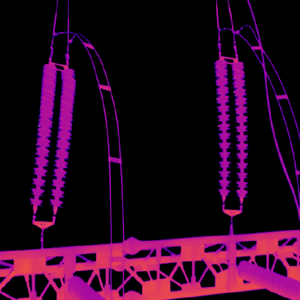insulator: (28, 62, 77, 215), (212, 54, 248, 203)
